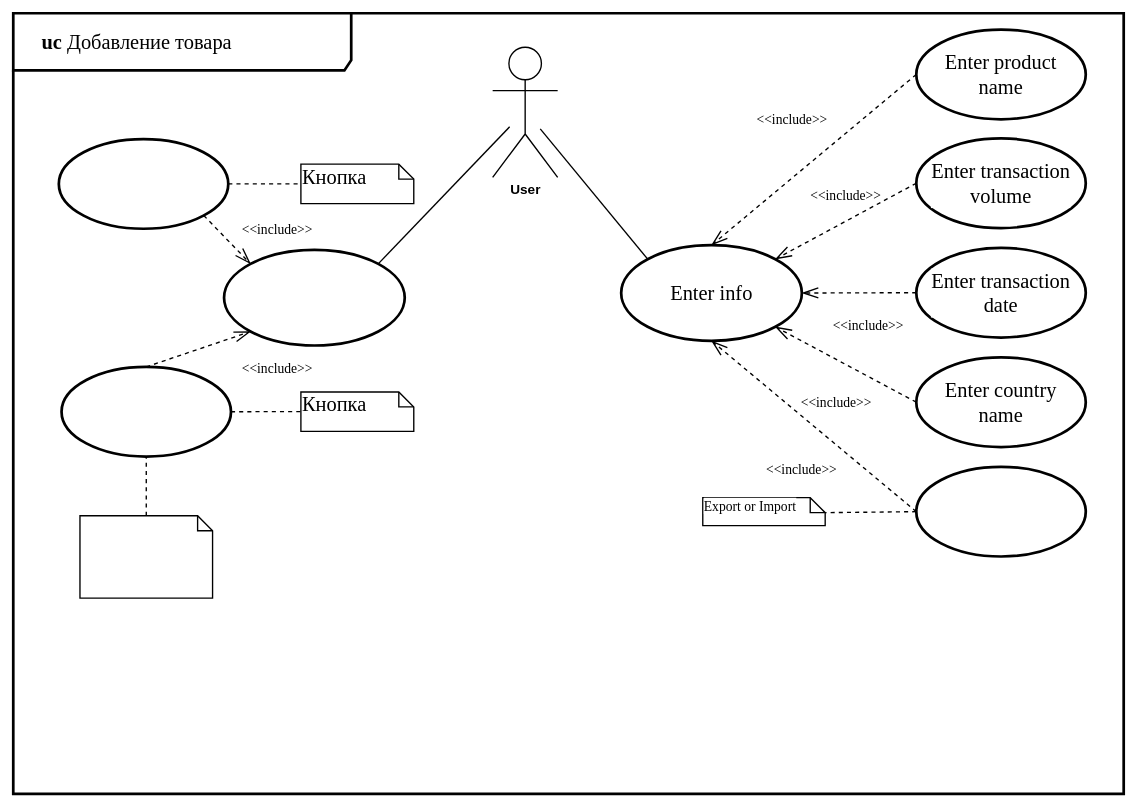
Image size: 1136x806. Some labels were removed from this diagram. Each missing label, with the centre of its shape:
"Add product" belongs at pixel 143 183.
"Back" belongs at pixel 146 411.
"Choose action" belongs at pixel 314 297.
"Choose transaction type" belongs at pixel 1001 511.
"На uc Основной интерфейс" belongs at pixel 146 556.
